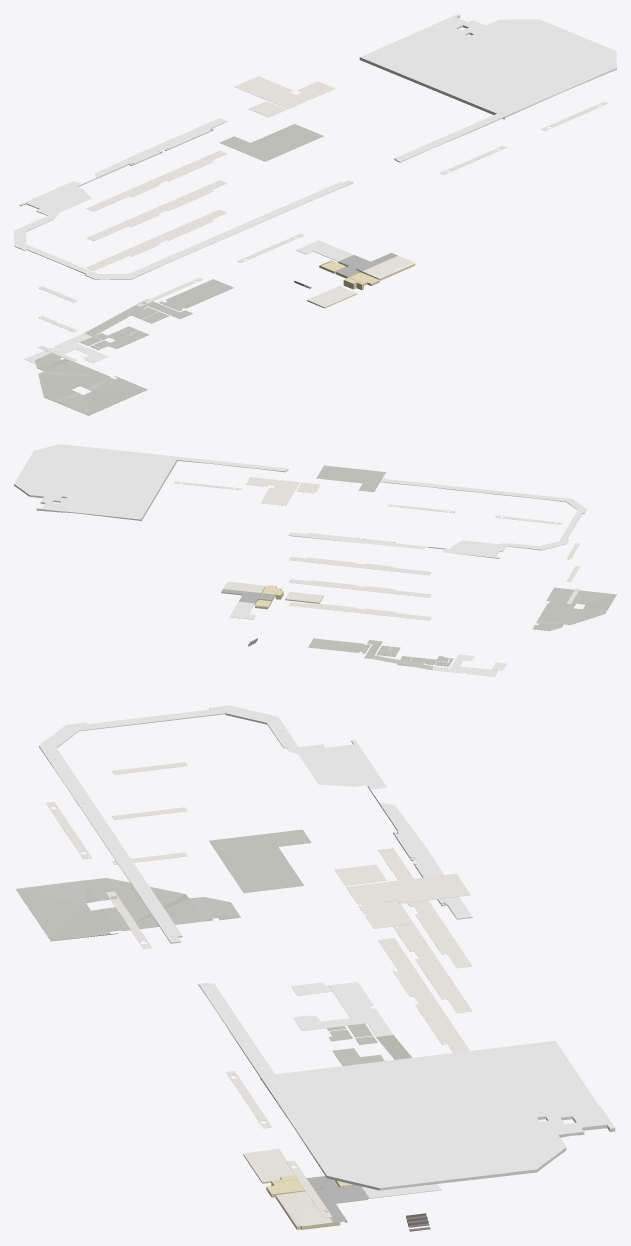
The model's file is 52ec9cbe-e19b-41bc-8a95-b64f65df0050.glb.
3 views of the same model, one above another, from view 1: azimuth 30°, elevation 25°; view 2: azimuth 150°, elevation 25°; view 3: azimuth 270°, elevation 25° (orthographic). The views are drawn at different scales.
Visible parts, largest first — view 1: 9542, 2222, 9553, 9553_16, 10570, 10572, 3691, 9553_61, 7833, 5734, 951, 9549 (+5 smaller); view 2: 9542, 2222, 9553, 9553_16, 10570, 10572, 9553_61, 3691, 7833, 5734, 938, 951 (+4 smaller); view 3: 9542, 2222, 9553, 9553_16, 10570, 10572, 3691, 938, 9553_61, 5734, 7833, 9549 (+3 smaller).
Boxes of the visible parts, x1,y1,x2,y2 form: 9542: [359, 14, 616, 119]; 2222: [35, 353, 147, 415]; 9553: [81, 118, 353, 275]; 9553_16: [14, 183, 195, 279]; 10570: [234, 76, 335, 117]; 10572: [219, 124, 323, 161]; 3691: [86, 209, 227, 270]; 9553_61: [27, 167, 245, 273]; 7833: [86, 150, 227, 211]; 5734: [86, 180, 227, 240]; 951: [159, 279, 233, 311]; 9549: [395, 113, 504, 162]; 9542: [14, 444, 178, 521]; 2222: [532, 587, 616, 630]; 9553: [288, 478, 565, 549]; 9553_16: [445, 492, 587, 558]; 10570: [245, 477, 320, 505]; 10572: [316, 465, 385, 491]; 9553_61: [428, 486, 561, 556]; 3691: [289, 602, 431, 620]; 7833: [289, 557, 431, 575]; 5734: [289, 579, 431, 597]; 938: [432, 654, 506, 676]; 951: [308, 638, 370, 653]; 9542: [260, 1040, 615, 1190]; 2222: [16, 878, 240, 941]; 9553: [41, 749, 472, 943]; 9553_16: [39, 705, 385, 802]; 10570: [334, 864, 470, 928]; 10572: [209, 829, 311, 892]; 3691: [378, 938, 469, 1052]; 938: [291, 982, 393, 1036]; 9553_61: [42, 744, 394, 847]; 5734: [384, 900, 472, 1013]; 7833: [378, 848, 472, 968]; 9549: [198, 982, 274, 1077].
Bounding box in the file's own units: 82.14 × 24.33 × 42.38.
